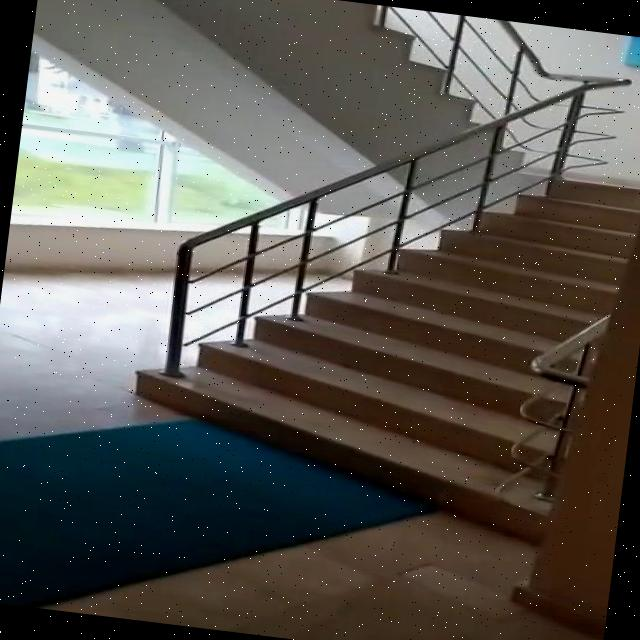stairs: (119, 126, 640, 550)
